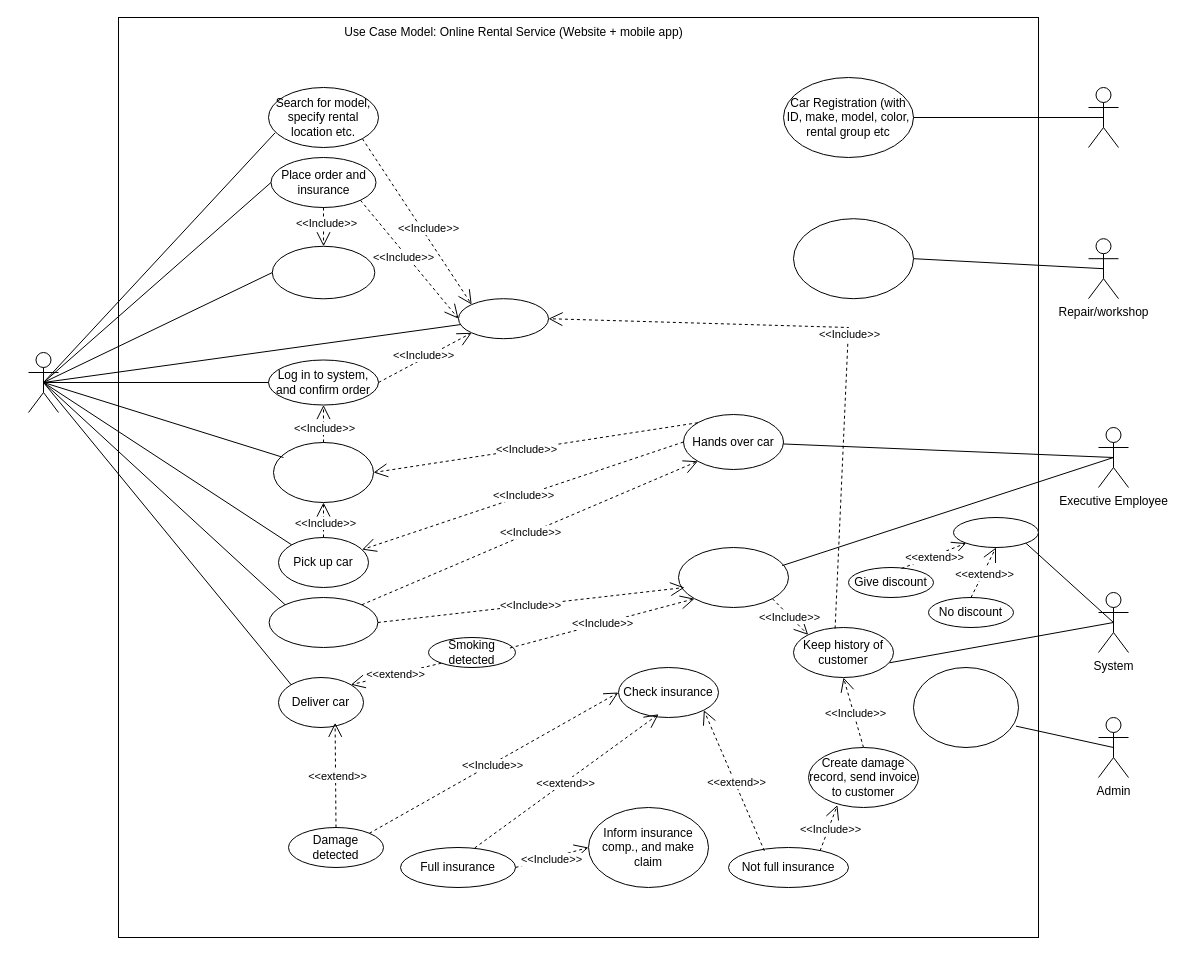
This 1185x955 diagram has some shape labels left out. Each missing label, with the centre of its shape:
"Branch" belongs at point 1103,117.
"Check history" belongs at point 995,532.
"Customer" belongs at point 43,382.
"Customer Registration" belongs at point 503,318.
"Customer signs contract, and receives keys" belongs at point 323,472.
"Deduct fee or send invoice" belongs at point 733,577.
"Misses appointment" belongs at point 323,622.
"Provide credit card information" belongs at point 323,272.
"Review requests, from cust. with not good background" belongs at point 965,707.
"Transport car to branch after repair" belongs at point 853,258.
